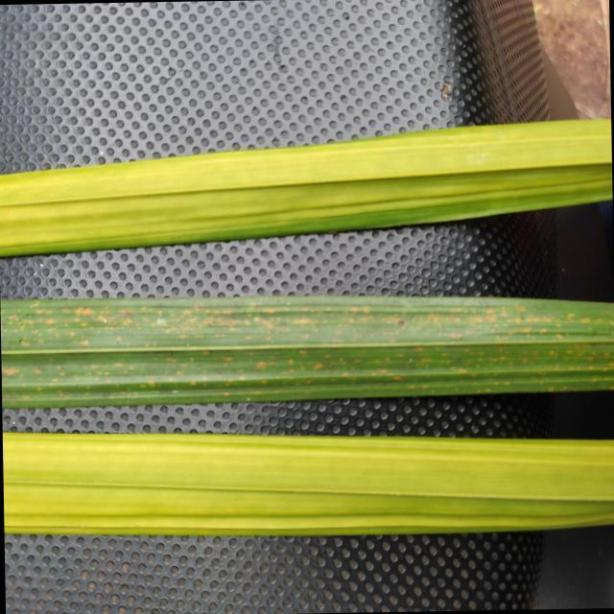nitrogen: (0, 120, 614, 257), (0, 291, 614, 409), (3, 433, 614, 533)
